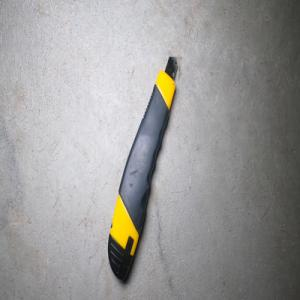Cutter: (107, 56, 178, 280)
